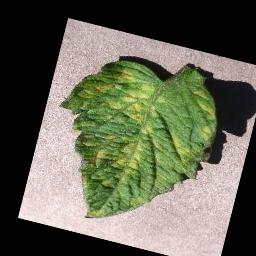Leaf_Mold: (32, 35, 229, 243)
